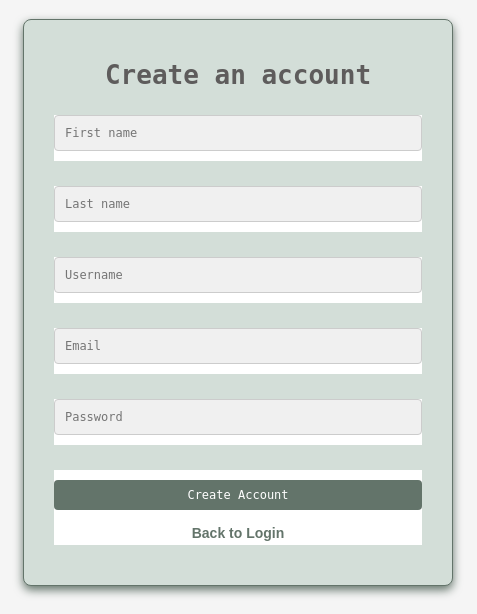
Scenario: Account Creation Tests › should display password length error
The width and height of the screenshot is (477, 614).
In the password field named "password": [238, 417] box [54, 399, 422, 435], type "short"
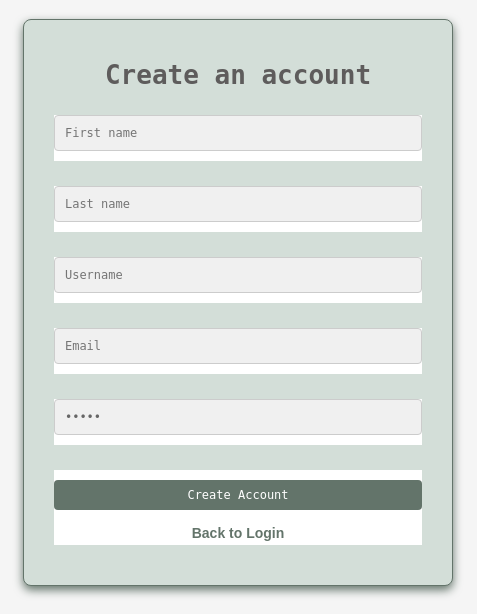
Click the submit button: [238, 495] box [54, 480, 422, 510]
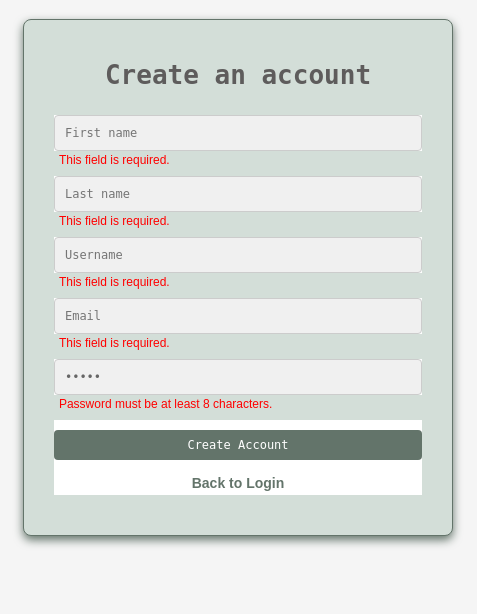
Check: the text "Password must be at least 8 characters." is shown, box [59, 397, 272, 411]
